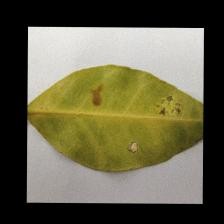canker: (90, 78, 184, 154)
